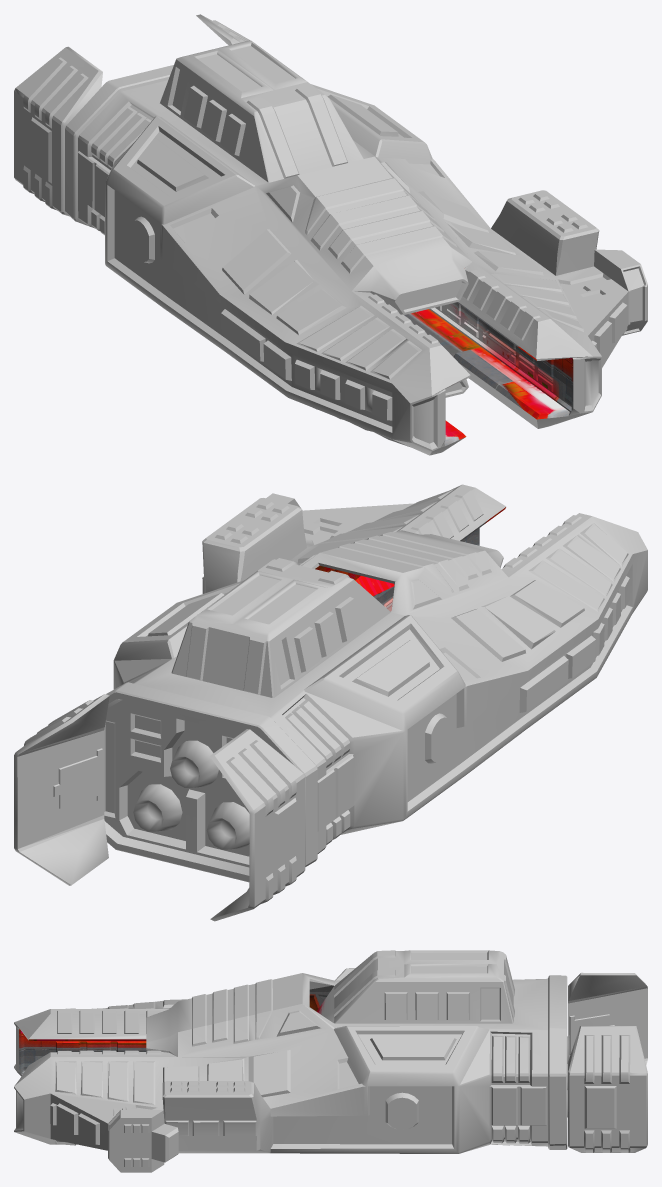
File: bst_carrier1.obj
The picture shows the model from 3 angles, top to bottom: view 1: azimuth 30°, elevation 25°; view 2: azimuth 150°, elevation 25°; view 3: azimuth 270°, elevation 25°; orthographic projection. The views are drawn at different scales.
Visible parts, largest first — view 1: Tai_Carrier1, Tai_Carrier2, Tai_CarrierBadge; view 2: Tai_Carrier1, Tai_CarrierThruster, Tai_CarrierBadge, Tai_Carrier2; view 3: Tai_Carrier1, Tai_CarrierThruster, Tai_Carrier2, Tai_CarrierBadge.
Boxes of the visible parts, x1=… form: Tai_Carrier1: x1=14, y1=14, x2=647, y2=455; Tai_Carrier2: x1=404, y1=302, x2=573, y2=446; Tai_CarrierBadge: x1=316, y1=178, x2=432, y2=244; Tai_Carrier1: x1=18, y1=484, x2=647, y2=908; Tai_CarrierThruster: x1=14, y1=692, x2=293, y2=921; Tai_CarrierBadge: x1=340, y1=535, x2=465, y2=565; Tai_Carrier2: x1=315, y1=507, x2=505, y2=611; Tai_Carrier1: x1=14, y1=950, x2=646, y2=1172; Tai_CarrierThruster: x1=567, y1=974, x2=647, y2=1147; Tai_Carrier2: x1=19, y1=981, x2=334, y2=1074; Tai_CarrierBadge: x1=206, y1=979, x2=271, y2=1025.
Bounding box in the file's own units: 296 × 180 × 587.
